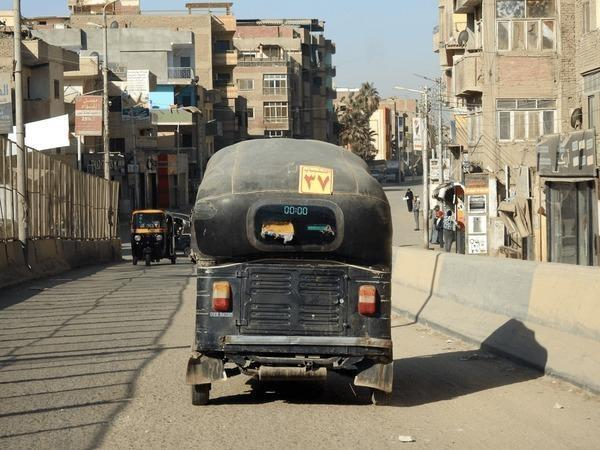keke: (182, 138, 394, 413), (130, 208, 168, 268)
